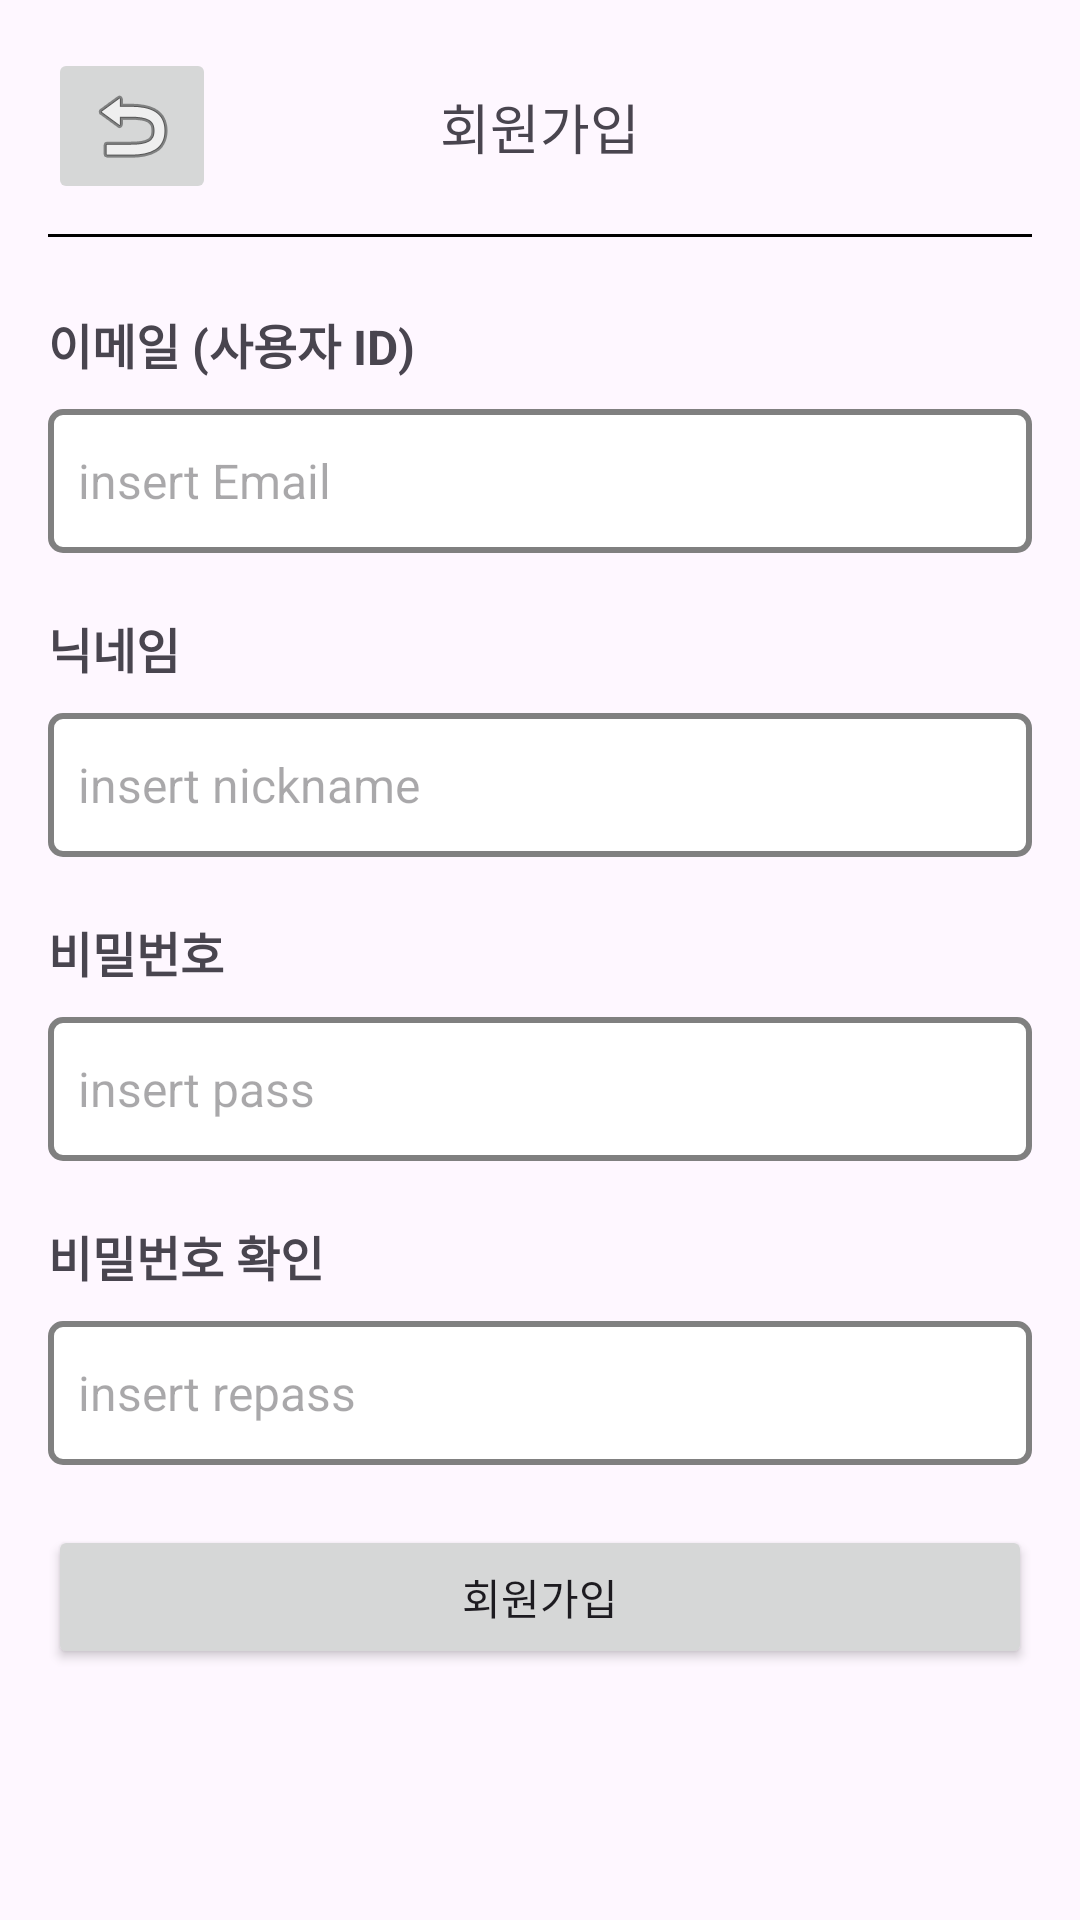

Locate icon controls on the screen. Image size 1080×1920, boxes as [x1=x1, y1=y1, x2=x2, y2=y2].
Back in SignIn: [x1=60, y1=66, x2=204, y2=186]
